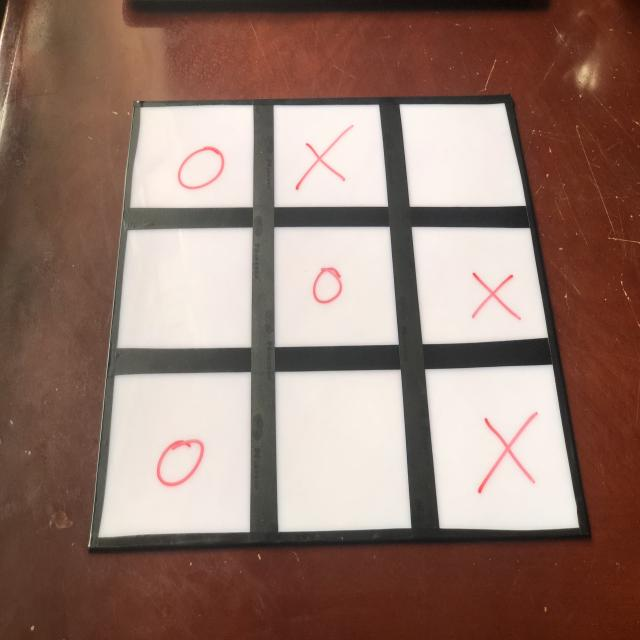null: (277, 363, 412, 531), (118, 228, 254, 352), (400, 100, 527, 209)
o: (153, 427, 212, 493), (174, 139, 230, 196), (303, 263, 350, 309)
table: (83, 94, 590, 546)
x: (475, 409, 543, 497), (289, 125, 359, 193), (463, 263, 524, 329)
